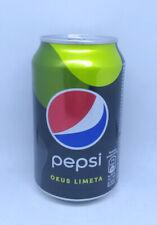metal: (33, 36, 124, 202)
